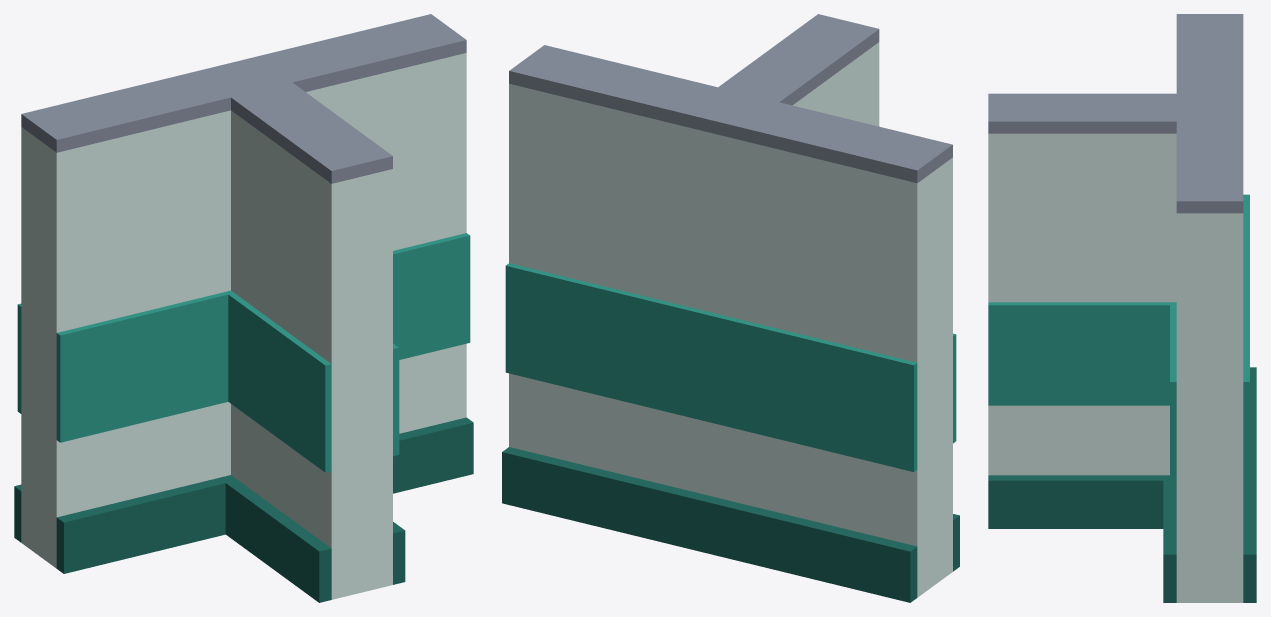
File: partition-full-tee.glb
The picture shows the model from 3 angles, left to right: view 1: azimuth 30°, elevation 25°; view 2: azimuth 150°, elevation 25°; view 3: azimuth 270°, elevation 25°; orthographic projection. The views are drawn at different scales.
Parts seen in each view (by area): view 1: partition-full-tee; view 2: partition-full-tee; view 3: partition-full-tee.
Boxes of the visible parts, box(x1,y1,x2,y2) form: partition-full-tee: box(14, 14, 473, 602); partition-full-tee: box(502, 14, 959, 602); partition-full-tee: box(988, 14, 1256, 602).
Bounding box in the file's own units: 1 × 1 × 0.605.
Materials: 1 (1 with a texture image).
